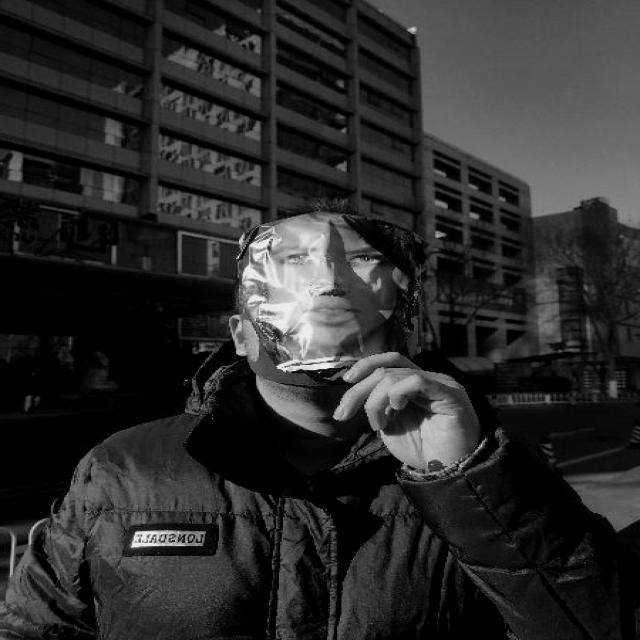fake: (234, 214, 422, 372)
